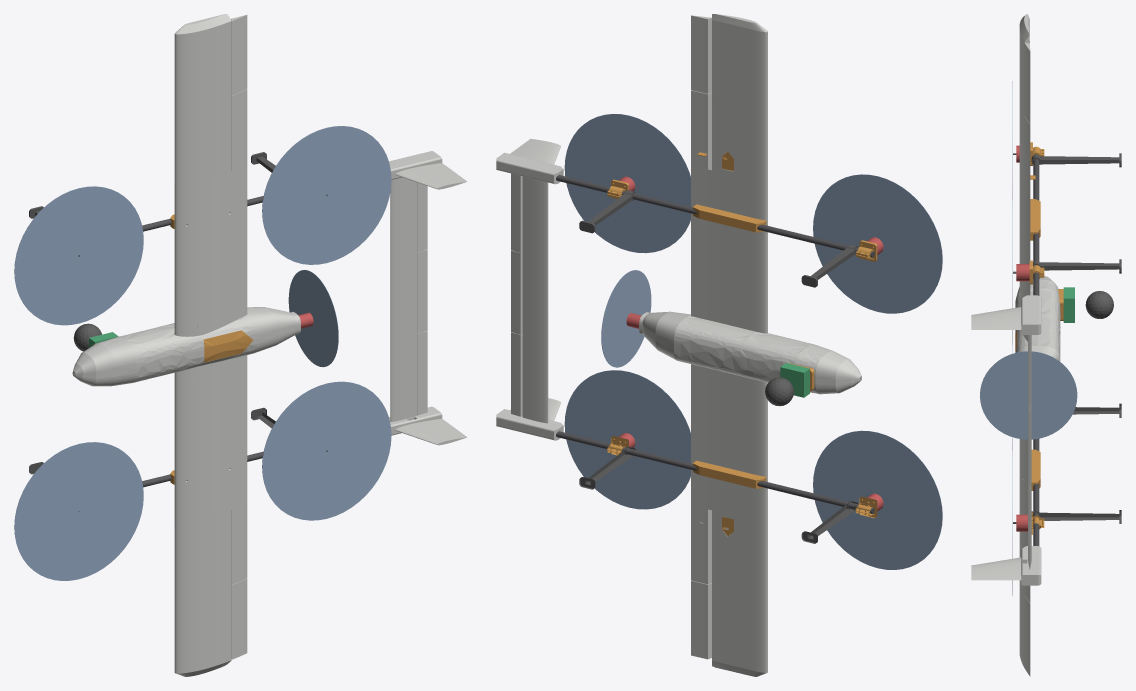
The model's file is assemblage.glb.
3 renders of one model, left to right at view 1: azimuth 30°, elevation 25°; view 2: azimuth 150°, elevation 25°; view 3: azimuth 270°, elevation 25°, orthographic. The views are drawn at different scales.
Parts seen in each view (by area): view 1: helice_65, helice_60, helice_57, helice_68, PLA Aero_0, PLA Aero_1, PLA Aero_3, PLA Aero_2, PLA Aero_7, PLA Aero_4, PLA Aero_5, PLA Aero_6 (+18 smaller); view 2: helice_65, helice_57, helice_60, helice_68, PLA Aero_0, PLA Aero_1, PLA Aero_2, PLA Aero_3, PLA Aero_6, PLA Aero_7, PLA Aero_5, PLA Aero_4 (+23 smaller); view 3: helice_73, PLA Aero_35, PLA Aero_36, PLA Aero_18, PLA Aero_2, PLA Aero_17, TPU 95A_31, TPU 95A_32, TPU 95A_34, TPU 95A_78, carbone_62, PLA Aero_3 (+13 smaller).
Part boxes in pixels (left/top/right/bottom): helice_65: left=14, top=186, right=143, bottom=325; helice_60: left=262, top=381, right=391, bottom=520; helice_57: left=14, top=442, right=143, bottom=580; helice_68: left=262, top=126, right=391, bottom=264; PLA Aero_0: left=174, top=239, right=247, bottom=336; PLA Aero_1: left=174, top=355, right=247, bottom=448; PLA Aero_3: left=174, top=429, right=247, bottom=523; PLA Aero_2: left=174, top=164, right=247, bottom=259; PLA Aero_7: left=174, top=585, right=231, bottom=673; PLA Aero_4: left=174, top=96, right=231, bottom=184; PLA Aero_5: left=174, top=510, right=231, bottom=598; PLA Aero_6: left=174, top=21, right=231, bottom=109; helice_65: left=813, top=174, right=942, bottom=313; helice_57: left=813, top=430, right=942, bottom=569; helice_60: left=564, top=370, right=690, bottom=509; helice_68: left=564, top=114, right=690, bottom=253; PLA Aero_0: left=691, top=240, right=767, bottom=333; PLA Aero_1: left=691, top=364, right=767, bottom=447; PLA Aero_2: left=691, top=165, right=767, bottom=257; PLA Aero_3: left=691, top=430, right=767, bottom=522; PLA Aero_6: left=712, top=20, right=767, bottom=107; PLA Aero_7: left=712, top=585, right=767, bottom=672; PLA Aero_5: left=712, top=510, right=767, bottom=597; PLA Aero_4: left=712, top=95, right=767, bottom=182; helice_73: left=980, top=351, right=1077, bottom=439; PLA Aero_35: left=971, top=295, right=1041, bottom=334; PLA Aero_36: left=971, top=546, right=1041, bottom=585; PLA Aero_18: left=1015, top=314, right=1060, bottom=361; PLA Aero_2: left=1019, top=176, right=1030, bottom=263; PLA Aero_17: left=1015, top=278, right=1060, bottom=327; TPU 95A_31: left=1031, top=153, right=1121, bottom=167; TPU 95A_32: left=1033, top=259, right=1121, bottom=273; TPU 95A_34: left=1033, top=510, right=1121, bottom=523; TPU 95A_78: left=1085, top=291, right=1113, bottom=318; carbone_62: left=1033, top=154, right=1039, bottom=295; PLA Aero_3: left=1019, top=439, right=1027, bottom=514.
Bounding box in the file's own units: 1274 × 1836 × 391.
